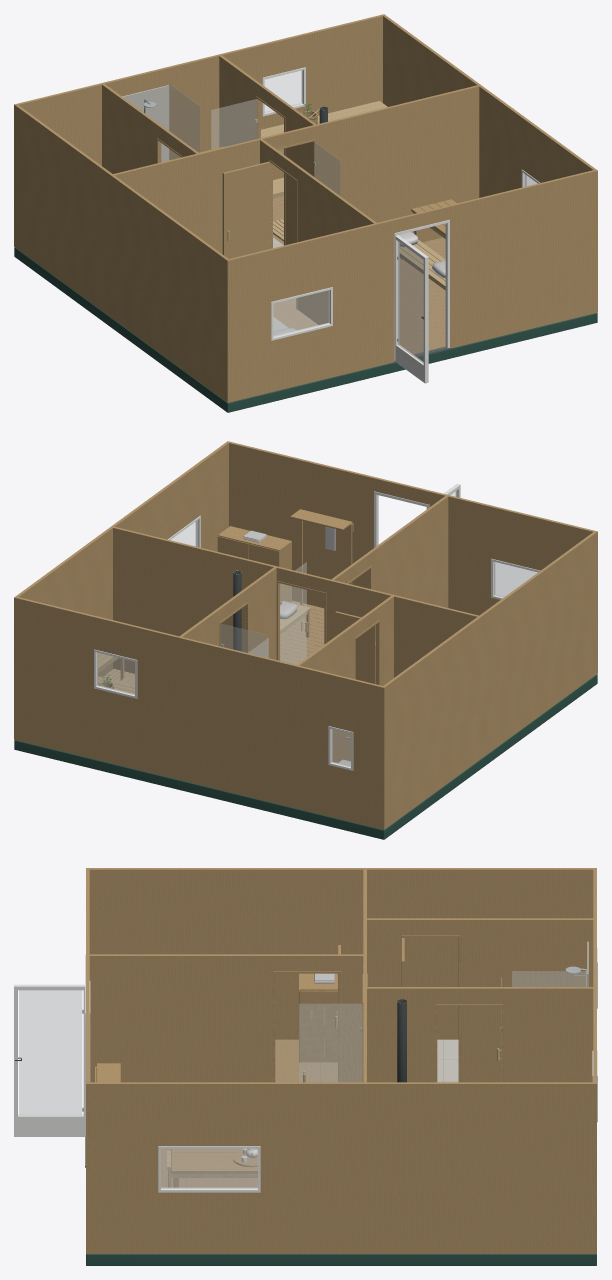
3 renders of one model, top to bottom at view 1: azimuth 30°, elevation 25°; view 2: azimuth 150°, elevation 25°; view 3: azimuth 270°, elevation 25°, orthographic. The views are drawn at different scales.
Visible parts, largest first — view 1: DP09-W01, DP09-W03, DP09-W07, DP09-W02, DP09-W04, Dimensioned foundation, DP09-W06, DP09-W08, Hinge_DP09-D05, DP09-W05, Hinge_DP09-D04, Floor lounge (+9 smaller); view 2: DP09-W02, DP09-W03, DP09-W01, DP09-W07, DP09-W04, DP09-W08, Dimensioned foundation, DP09-W05, DP09-W06, Hinge_DP09-D02, Floor lounge, Window p9_i2875 (+11 smaller); view 3: DP09-W04, DP09-W03, DP09-W08, DP09-W06, DP09-W05, Hinge_DP09-D05, Dimensioned foundation, Hinge_DP09-D02, Window p9_i2878, Ш1 storage, С1 table, Floor bedroom (+12 smaller).
Boxes of the visible parts, left/top/right/bottom form: DP09-W01: left=226, top=169, right=597, bottom=402; DP09-W03: left=15, top=105, right=228, bottom=401; DP09-W07: left=113, top=85, right=479, bottom=253; DP09-W02: left=14, top=14, right=385, bottom=247; DP09-W04: left=383, top=15, right=595, bottom=197; Dimensioned foundation: left=14, top=247, right=597, bottom=412; DP09-W06: left=219, top=55, right=316, bottom=245; DP09-W08: left=260, top=139, right=376, bottom=324; Hinge_DP09-D05: left=395, top=235, right=428, bottom=383; DP09-W05: left=102, top=84, right=198, bottom=173; Hinge_DP09-D04: left=222, top=161, right=269, bottom=258; Floor lounge: left=289, top=237, right=445, bottom=354; DP09-W02: left=14, top=596, right=385, bottom=829; DP09-W03: left=383, top=532, right=596, bottom=828; DP09-W01: left=226, top=441, right=597, bottom=674; DP09-W07: left=113, top=526, right=478, bottom=677; DP09-W04: left=16, top=442, right=228, bottom=676; DP09-W08: left=331, top=496, right=448, bottom=607; Dimensioned foundation: left=14, top=674, right=597, bottom=839; DP09-W05: left=297, top=596, right=393, bottom=762; DP09-W06: left=180, top=567, right=276, bottom=659; Hinge_DP09-D02: left=280, top=562, right=307, bottom=664; Floor lounge: left=280, top=600, right=324, bottom=664; Window p9_i2875: left=94, top=649, right=137, bottom=698; DP09-W04: left=89, top=1082, right=593, bottom=1253; DP09-W03: left=89, top=868, right=593, bottom=1039; DP09-W08: left=89, top=954, right=363, bottom=1082; DP09-W06: left=367, top=987, right=593, bottom=1082; DP09-W05: left=367, top=918, right=593, bottom=1082; Hinge_DP09-D05: left=14, top=984, right=85, bottom=1136; Dimensioned foundation: left=86, top=1254, right=596, bottom=1265; Hinge_DP09-D02: left=299, top=1004, right=362, bottom=1082; Window p9_i2878: left=158, top=1146, right=260, bottom=1192; Ш1 storage: left=299, top=973, right=337, bottom=1062; С1 table: left=171, top=1148, right=257, bottom=1187; Floor bedroom: left=275, top=1039, right=337, bottom=1082.
Bounding box in the file's own units: 6.01 × 2.36 × 6.85.
Materials: 33 (14 with a texture image).
